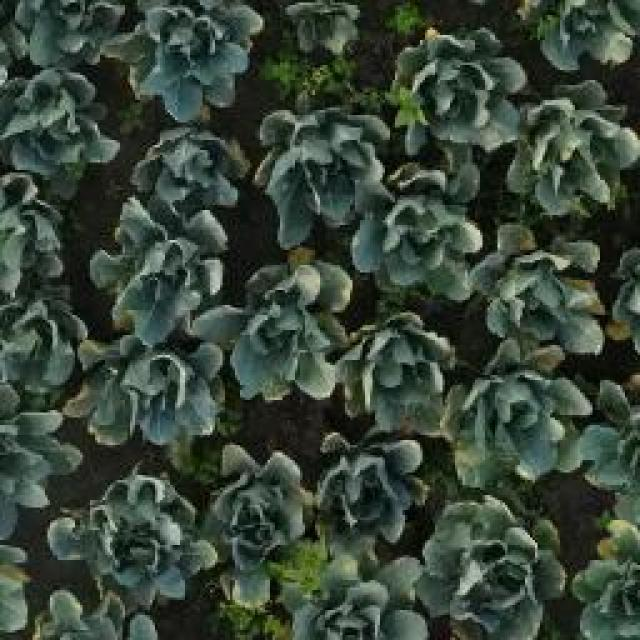cabbage: (50, 466, 213, 609), (412, 497, 567, 640), (356, 145, 482, 301), (218, 261, 351, 402), (510, 75, 640, 210), (89, 200, 221, 331), (447, 361, 582, 488), (82, 321, 222, 441), (485, 225, 603, 364), (258, 104, 384, 233), (394, 28, 524, 149), (199, 445, 312, 581), (131, 0, 263, 116), (339, 314, 458, 434), (5, 68, 118, 194), (312, 426, 426, 550), (286, 553, 430, 640), (129, 123, 249, 215), (0, 285, 92, 405), (0, 400, 85, 525), (0, 0, 120, 62), (279, 0, 368, 57)
